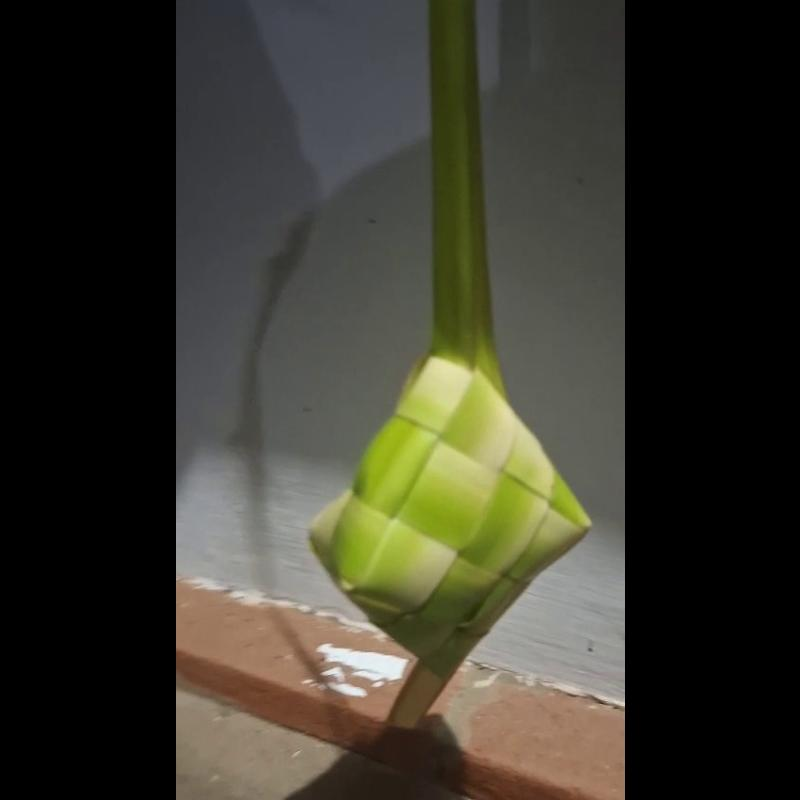Tipat Nasi: (303, 329, 601, 739)
